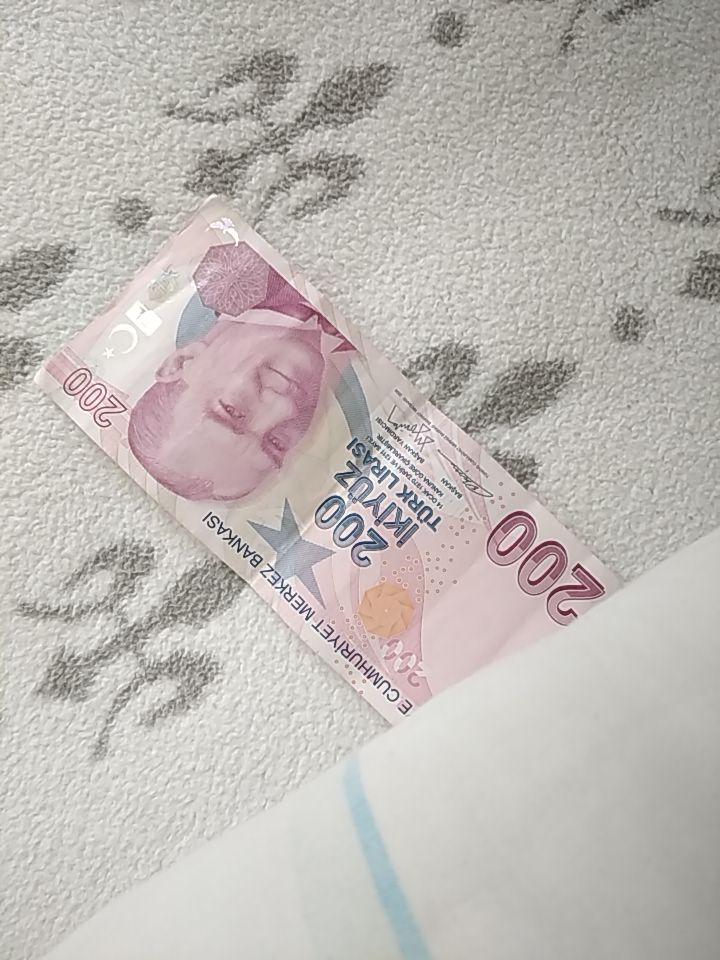200TL: (30, 191, 618, 728)
